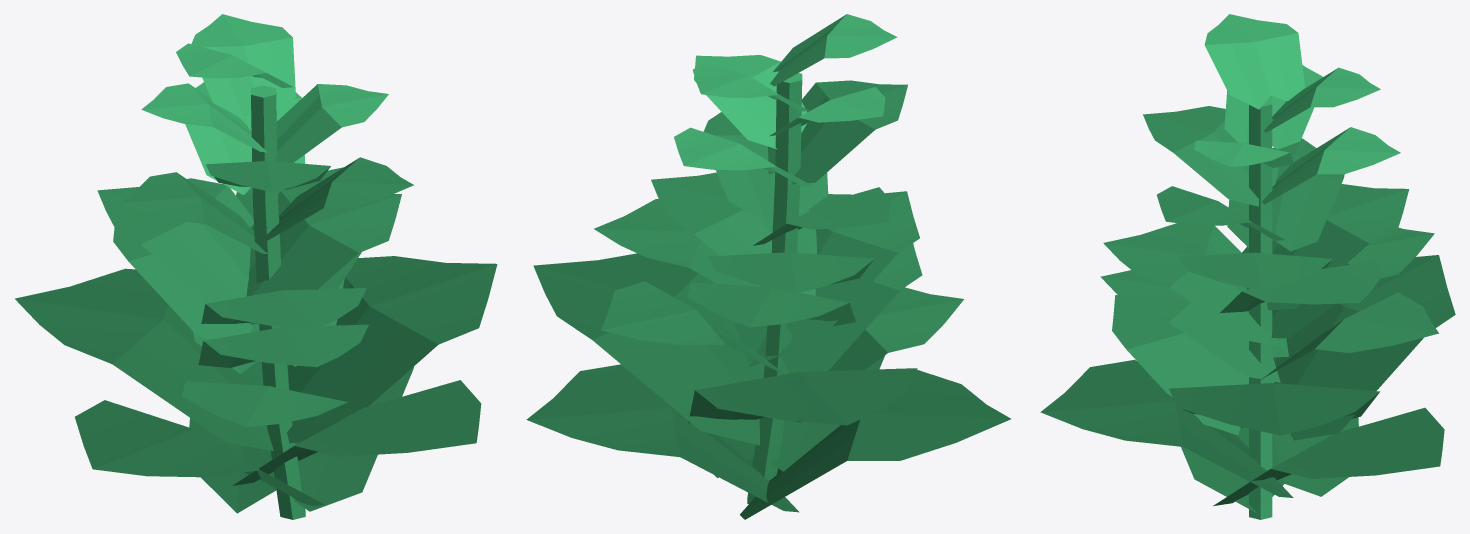
Rendered from Plant_001.fbx.
3 renders of one model, left to right at view 1: azimuth 30°, elevation 25°; view 2: azimuth 150°, elevation 25°; view 3: azimuth 270°, elevation 25°, orthographic. The views are drawn at different scales.
Visible parts, largest first — view 1: polySurface617, polySurface616, polySurface615, polySurface608, polySurface614, polySurface623, polySurface624, polySurface609, polySurface625, polySurface610, polySurface611, polySurface613 (+9 smaller); view 2: polySurface617, polySurface609, polySurface608, polySurface616, polySurface623, polySurface624, polySurface613, polySurface610, polySurface612, polySurface606, polySurface604, polySurface611 (+10 smaller); view 3: polySurface615, polySurface616, polySurface609, polySurface613, polySurface617, polySurface619, polySurface611, polySurface610, polySurface614, polySurface624, polySurface606, polySurface620 (+10 smaller).
Part boxes in pixels (bbox=[...]): polySurface617: bbox=[287, 256, 497, 443]; polySurface616: bbox=[15, 268, 273, 450]; polySurface615: bbox=[232, 380, 481, 485]; polySurface608: bbox=[75, 400, 324, 505]; polySurface614: bbox=[97, 178, 253, 302]; polySurface623: bbox=[246, 189, 401, 324]; polySurface624: bbox=[251, 85, 305, 519]; polySurface609: bbox=[189, 367, 413, 513]; polySurface625: bbox=[191, 14, 295, 119]; polySurface610: bbox=[198, 324, 368, 367]; polySurface611: bbox=[182, 381, 351, 427]; polySurface613: bbox=[201, 287, 366, 329]; polySurface617: bbox=[533, 253, 764, 445]; polySurface609: bbox=[526, 364, 799, 512]; polySurface608: bbox=[740, 369, 1010, 519]; polySurface616: bbox=[688, 368, 917, 425]; polySurface623: bbox=[651, 172, 816, 295]; polySurface624: bbox=[747, 73, 802, 503]; polySurface613: bbox=[751, 191, 919, 336]; polySurface610: bbox=[734, 243, 922, 373]; polySurface612: bbox=[601, 281, 784, 374]; polySurface606: bbox=[768, 80, 907, 184]; polySurface604: bbox=[687, 282, 855, 327]; polySurface611: bbox=[789, 287, 963, 373]; polySurface615: bbox=[1040, 359, 1293, 497]; polySurface616: bbox=[1241, 255, 1455, 440]; polySurface609: bbox=[1213, 407, 1444, 505]; polySurface613: bbox=[1103, 223, 1278, 346]; polySurface617: bbox=[1169, 383, 1379, 435]; polySurface619: bbox=[1204, 14, 1305, 109]; polySurface611: bbox=[1112, 295, 1274, 435]; polySurface610: bbox=[1100, 270, 1288, 382]; polySurface614: bbox=[1242, 184, 1409, 310]; polySurface624: bbox=[1249, 97, 1272, 519]; polySurface606: bbox=[1143, 106, 1278, 206]; polySurface620: bbox=[1227, 138, 1344, 251].
Size of the model in its own units: 0.972 by 1.01 by 0.8528.
